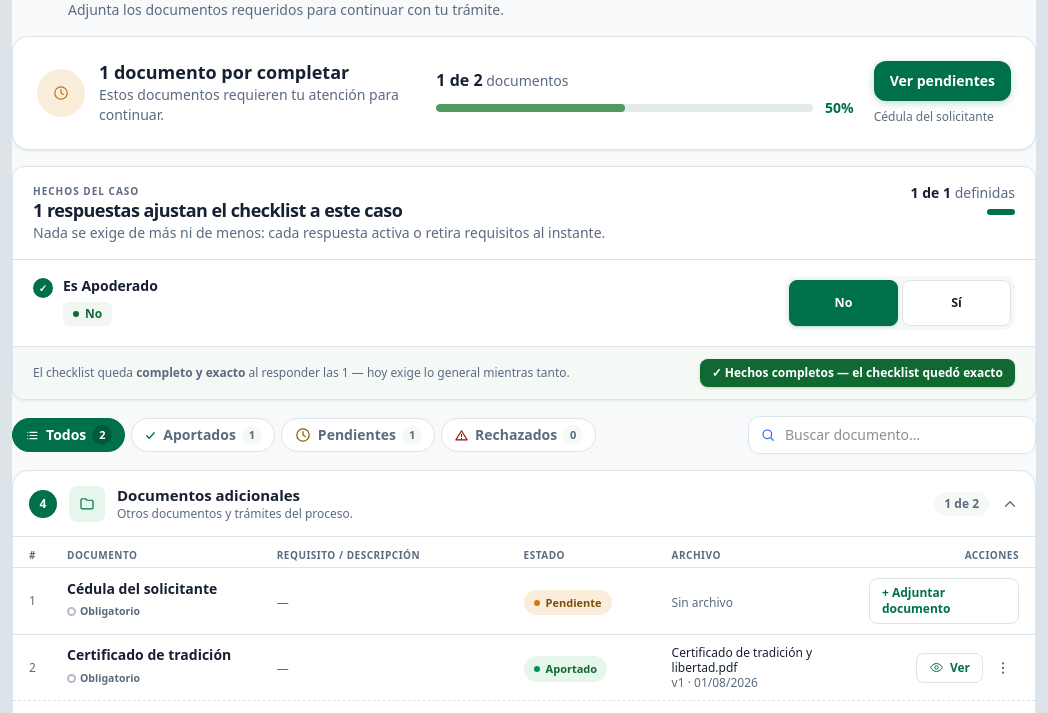
Test case: Bloque A·A3 — ChecklistRequisitos deriva estados del evaluador real › clasifica APORTADO / PENDIENTE / NO_APLICA (condicional y opcional) sin reimplementar la evaluación
The width and height of the screenshot is (1048, 713).
Expected: the text "Pendiente" is shown, [524,590,612,615]
Expected: the file field "+ Adjuntar documento" is shown, [869,578,1019,624]
# Lo secundario (descargar, reemplazar) vive en el menú de tres puntos.
Click the button named "Más acciones": (1003, 668) [987,652,1019,684]
(page scrolled)
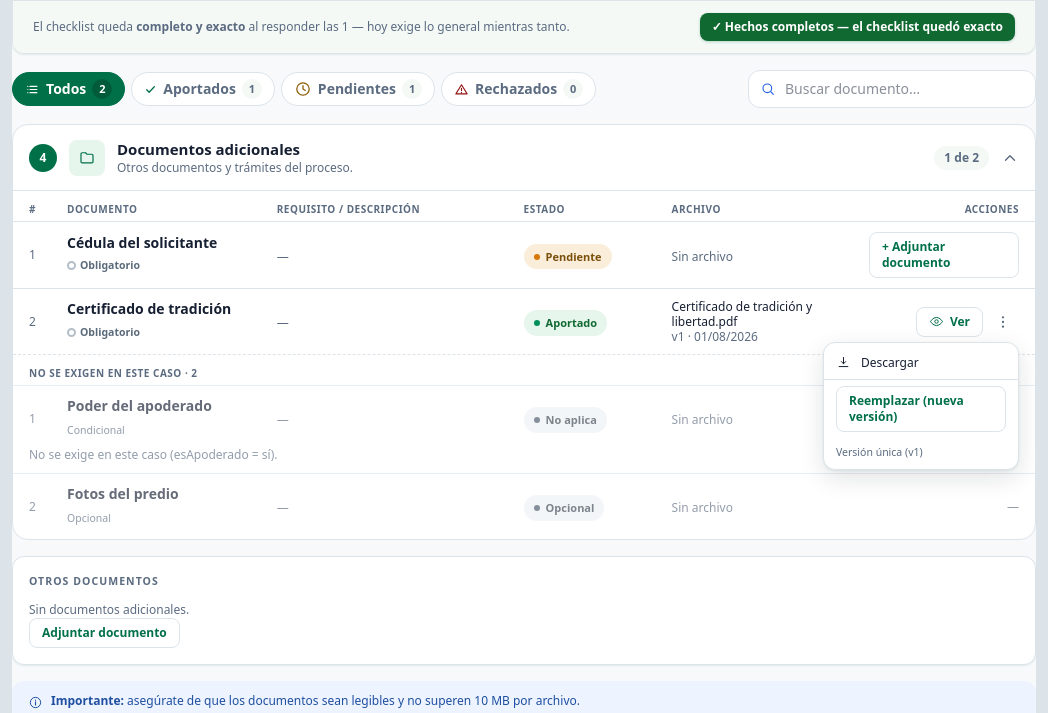
Expected: the text "Poder del apoderado" is shown, [67,396,212,415]
Expected: the file field "Reemplazar (nueva versión)" is shown, [836,386,1006,432]
